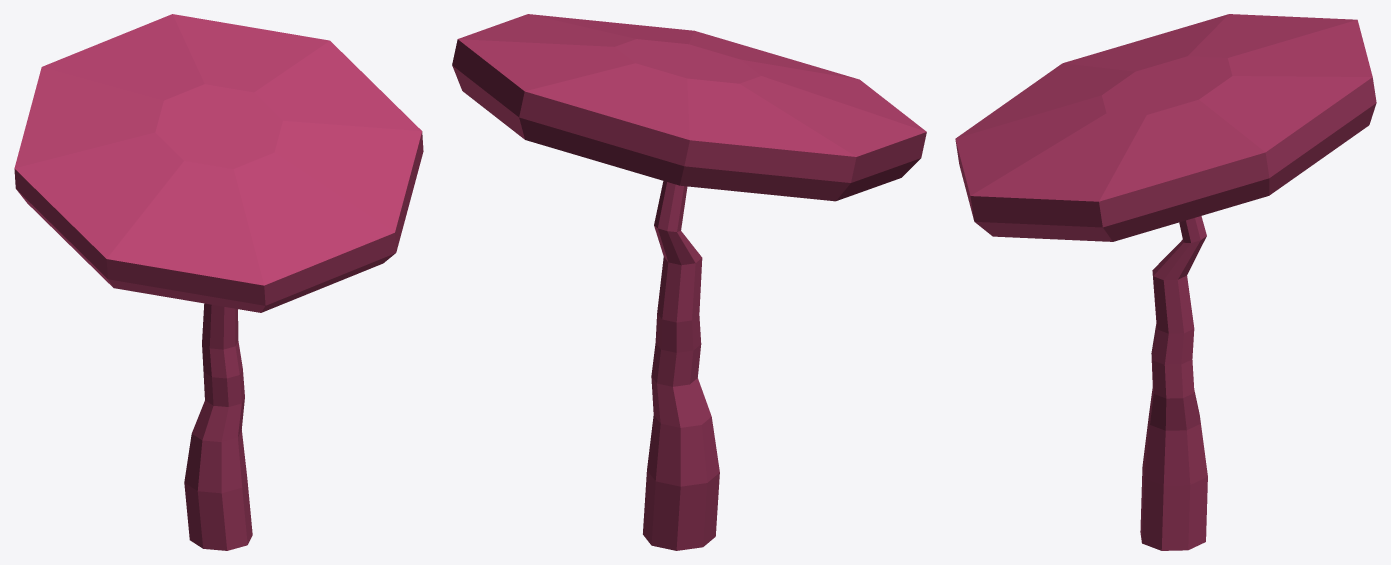
Rendered from biobloom_fauna_mushroomtreeone.fbx.
3 renders of one model, left to right at view 1: azimuth 30°, elevation 25°; view 2: azimuth 150°, elevation 25°; view 3: azimuth 270°, elevation 25°, orthographic. The views are drawn at different scales.
Visible parts, largest first — view 1: MushroomTreeOne; view 2: MushroomTreeOne; view 3: MushroomTreeOne.
Boxes of the visible parts, <box> form: MushroomTreeOne: <box>14,14,423,550</box>; MushroomTreeOne: <box>452,14,926,550</box>; MushroomTreeOne: <box>955,14,1376,550</box>.
Size of the model in its own units: 1738 by 2110 by 1668.
